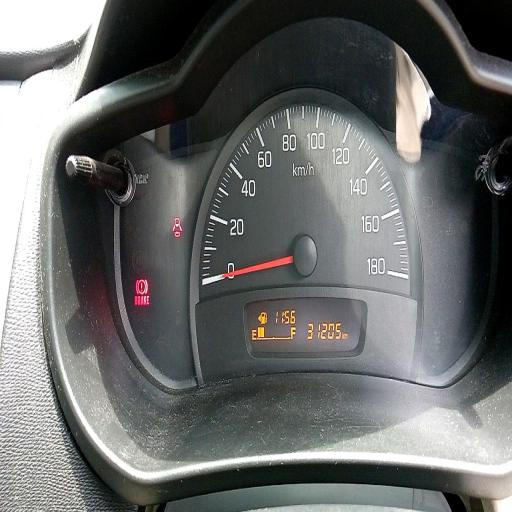brake_system_fault: (135, 278, 148, 294)
